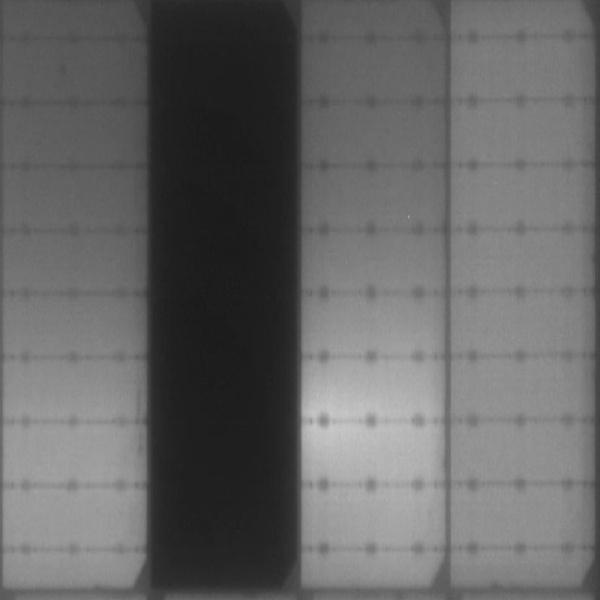no_electricity: (152, 1, 298, 586)
